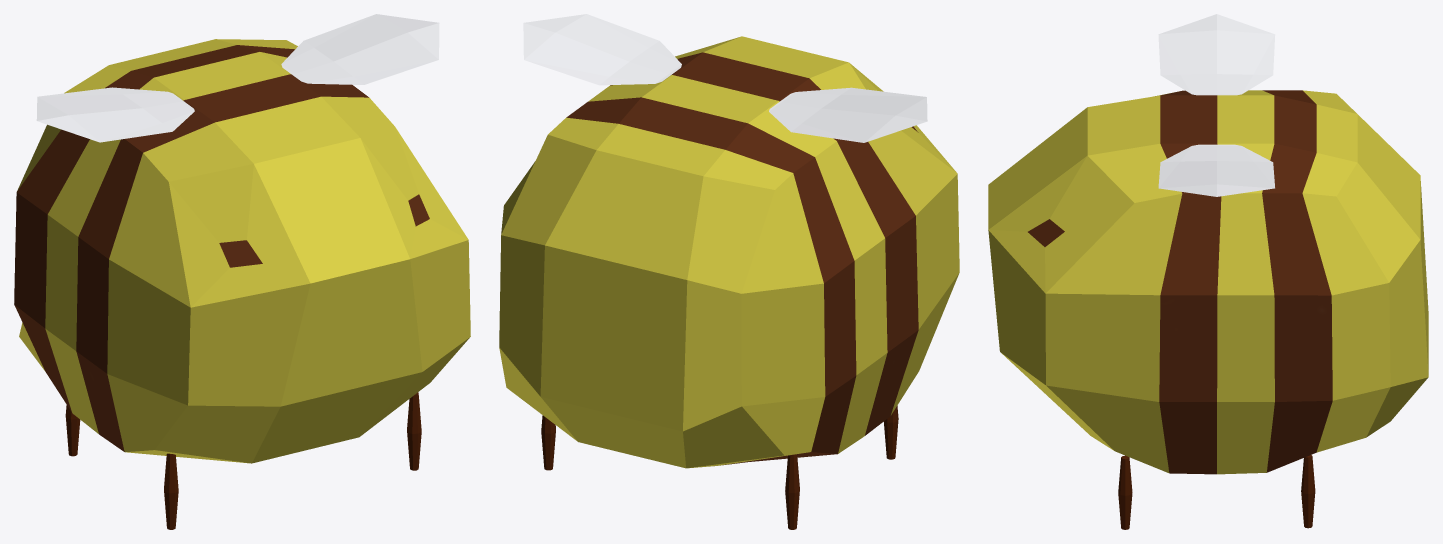
The model's file is bumblebee.fbx.
The picture shows the model from 3 angles, left to right: view 1: azimuth 30°, elevation 25°; view 2: azimuth 150°, elevation 25°; view 3: azimuth 270°, elevation 25°; orthographic projection. The views are drawn at different scales.
Visible parts, largest first — view 1: Bumblebee, WingLeft, RightWing, RightFrontLeg, LeftFrontLeg, RightBackLeg; view 2: Bumblebee, WingLeft, RightWing, RightBackLeg, LeftBackLeg, RightFrontLeg; view 3: Bumblebee, RightWing, WingLeft, LeftFrontLeg, LeftBackLeg.
Boxes of the visible parts, x1,y1,x2,y2 form: Bumblebee: (14,39,470,463); WingLeft: (281,14,439,84); RightWing: (36,87,194,142); RightFrontLeg: (164,453,178,529); LeftFrontLeg: (407,392,421,470); RightBackLeg: (65,405,80,456); Bumblebee: (499,36,959,468); WingLeft: (523,14,681,85); RightWing: (769,87,927,142); RightBackLeg: (785,454,799,529); LeftBackLeg: (541,415,555,470); RightFrontLeg: (884,405,898,459); Bumblebee: (988,90,1428,474); RightWing: (1158,14,1275,95); WingLeft: (1158,144,1274,196); LeftFrontLeg: (1118,455,1132,529); LeftBackLeg: (1301,455,1315,528).
Size of the model in its own units: 50.98 by 47.41 by 51.83.
3 materials, 2 textured.
